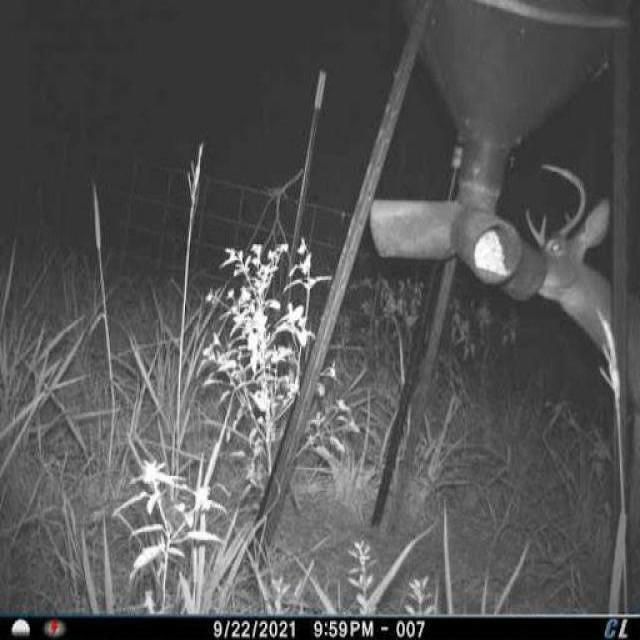deer: (505, 159, 621, 422)
